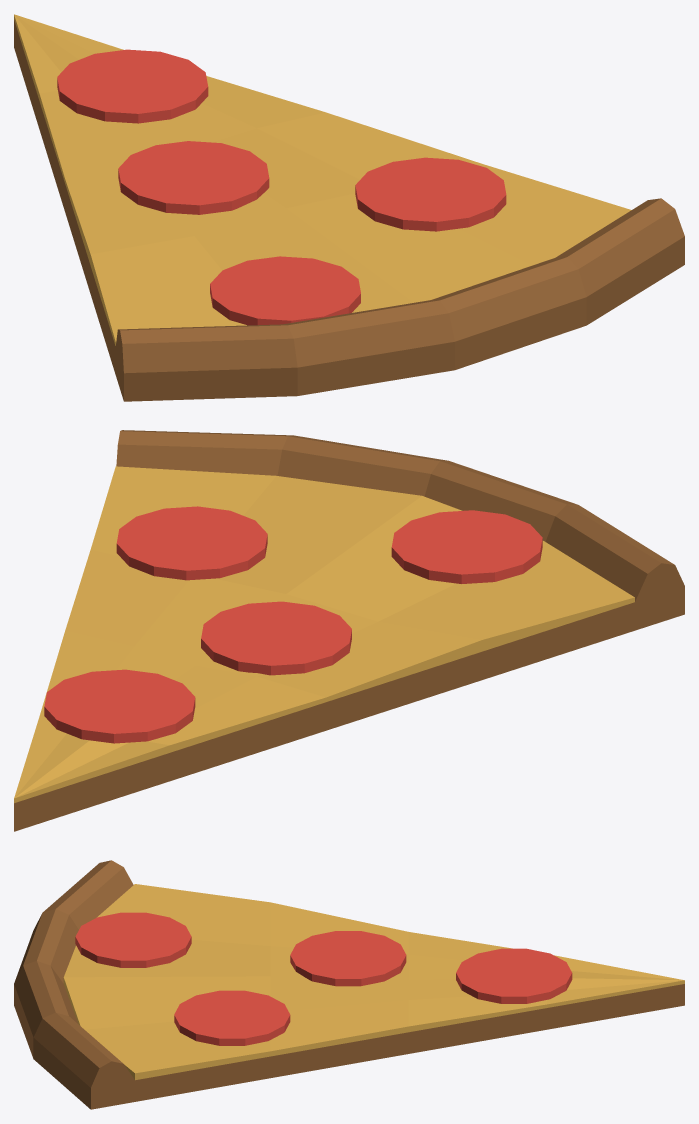
The model's file is Pizza.fbx.
3 views of the same model, one above another, from view 1: azimuth 30°, elevation 25°; view 2: azimuth 150°, elevation 25°; view 3: azimuth 270°, elevation 25° (orthographic). The views are drawn at different scales.
Parts seen in each view (by area): view 1: Pizza3, Pizza4, Pizza2, Pizza1; view 2: Pizza3, Pizza2, Pizza4, Pizza1; view 3: Pizza3, Pizza2, Pizza4, Pizza1.
Part boxes in pixels (left/top/right/bottom): Pizza3: left=90, top=157, right=631, bottom=374; Pizza4: left=115, top=198, right=684, bottom=401; Pizza2: left=39, top=76, right=481, bottom=293; Pizza1: left=14, top=14, right=208, bottom=129; Pizza3: left=91, top=466, right=634, bottom=679; Pizza2: left=39, top=549, right=481, bottom=781; Pizza4: left=116, top=430, right=684, bottom=630; Pizza1: left=14, top=669, right=195, bottom=831; Pizza3: left=63, top=884, right=290, bottom=1101; Pizza2: left=270, top=902, right=546, bottom=1077; Pizza4: left=14, top=860, right=135, bottom=1109; Pizza1: left=456, top=948, right=684, bottom=1029.
Bounding box in the file's own units: 67.03 × 6.73 × 91.26.
